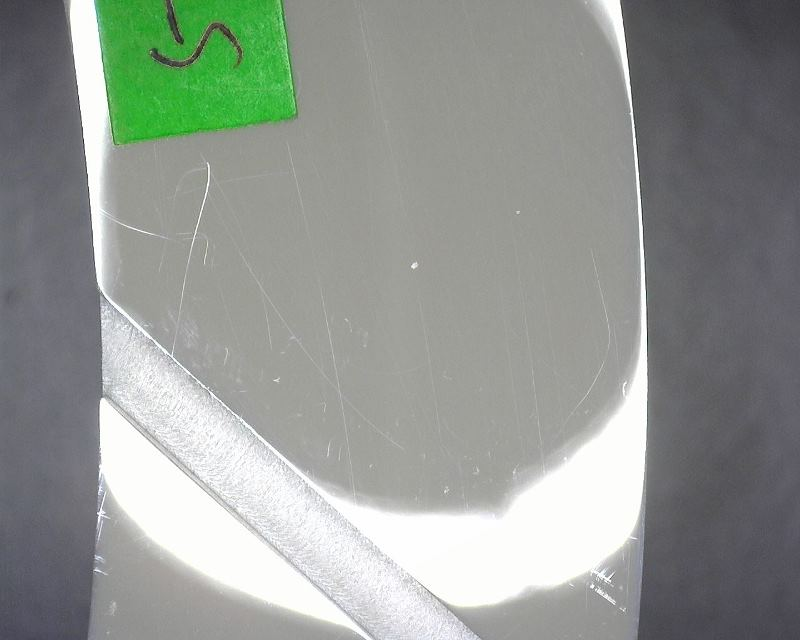scratch: (169, 160, 212, 356), (575, 244, 627, 402), (286, 139, 323, 278), (317, 290, 350, 430), (102, 200, 175, 245), (587, 570, 630, 616), (95, 467, 112, 573), (324, 440, 345, 464), (222, 345, 231, 364), (410, 257, 419, 273), (273, 375, 283, 386)
